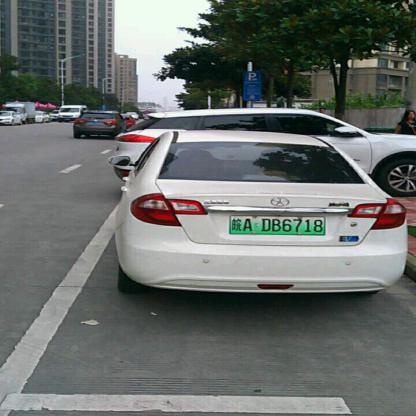lp: (228, 215, 326, 234)
